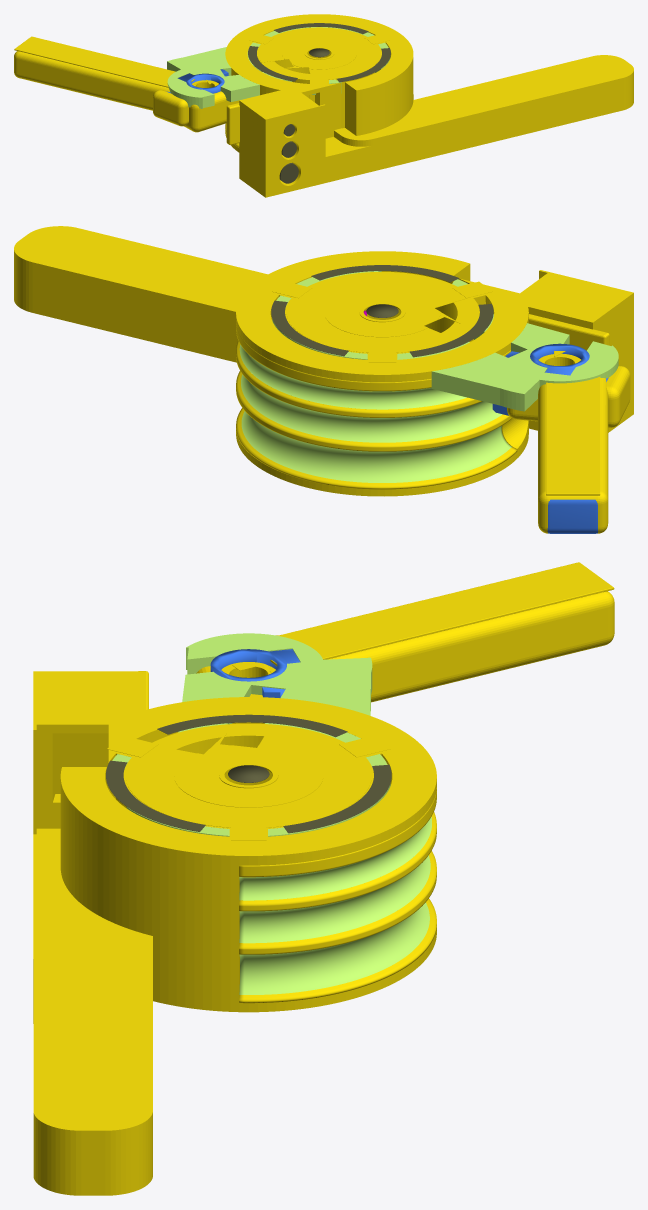
The model's file is openscad_heatpipebenderrc9.glb.
3 views of the same model, one above another, from view 1: azimuth 30°, elevation 25°; view 2: azimuth 150°, elevation 25°; view 3: azimuth 270°, elevation 25° (orthographic). The views are drawn at different scales.
Visible parts, largest first — view 1: object; view 2: object; view 3: object.
Part boxes in pixels (x1=…): object: x1=14, y1=14, x2=633, y2=197; object: x1=14, y1=226, x2=633, y2=533; object: x1=33, y1=562, x2=614, y2=1195.
Bounding box in the file's own units: 238 × 38.09 × 121.
